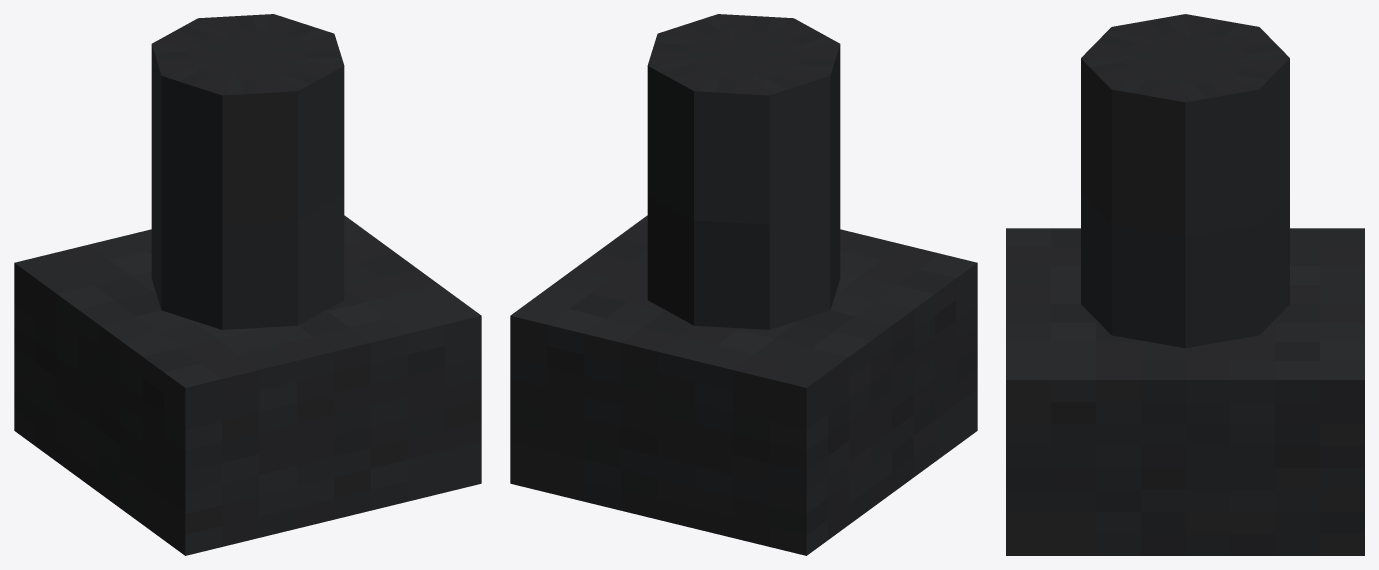
The model's file is decopole_anaheim_mount_d.obj.
3 views of the same model, side by side, from view 1: azimuth 30°, elevation 25°; view 2: azimuth 150°, elevation 25°; view 3: azimuth 270°, elevation 25° (orthographic). The views are drawn at different scales.
Visible parts, largest first — view 1: decopole_anaheim_mount_d; view 2: decopole_anaheim_mount_d; view 3: decopole_anaheim_mount_d.
Boxes of the visible parts, x1=… form: decopole_anaheim_mount_d: x1=14, y1=14, x2=481, y2=555; decopole_anaheim_mount_d: x1=510, y1=14, x2=977, y2=555; decopole_anaheim_mount_d: x1=1006, y1=14, x2=1364, y2=555.
Size of the model in its own units: 0.3 by 0.3894 by 0.3.
